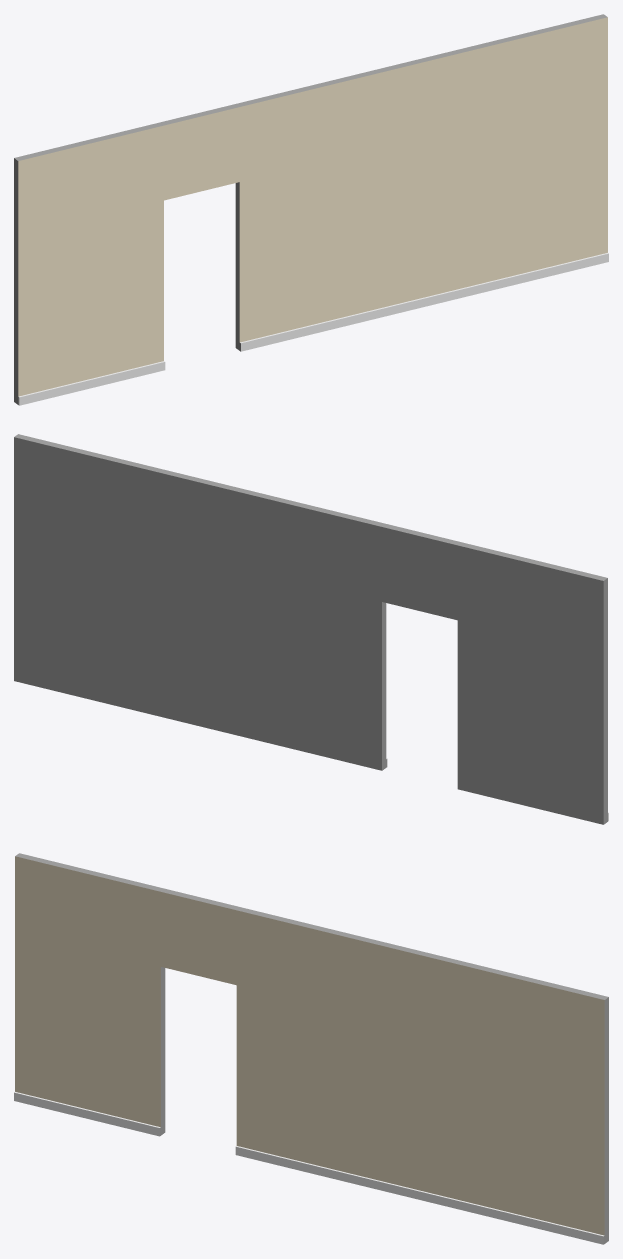
The model's file is Wall 3.FBX.
The picture shows the model from 3 angles, top to bottom: view 1: azimuth 30°, elevation 25°; view 2: azimuth 150°, elevation 25°; view 3: azimuth 330°, elevation 25°; orthographic projection.
Visible parts, largest first — view 1: wall 3; view 2: wall 3; view 3: wall 3.
Part boxes in pixels (x1,y1,x2,y2): wall 3: (14,14,608,405); wall 3: (14,434,608,824); wall 3: (14,853,608,1244).
Size of the model in its own units: 765 by 303 by 11.98.
3 materials, 1 textured.
